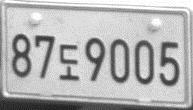0: (108, 38, 131, 84), (133, 38, 155, 85)
5: (158, 41, 180, 86)
7: (34, 34, 55, 78)
8: (11, 33, 32, 78)
9: (83, 37, 106, 82)
도: (58, 43, 80, 82)
